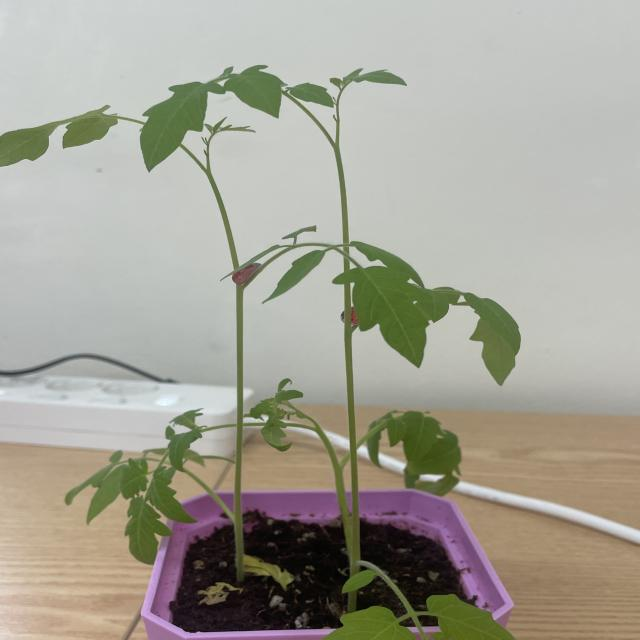bug: (208, 245, 265, 300), (324, 298, 372, 340)
